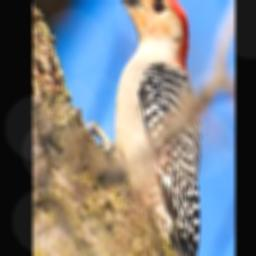Woodpecker: (99, 0, 201, 256)
